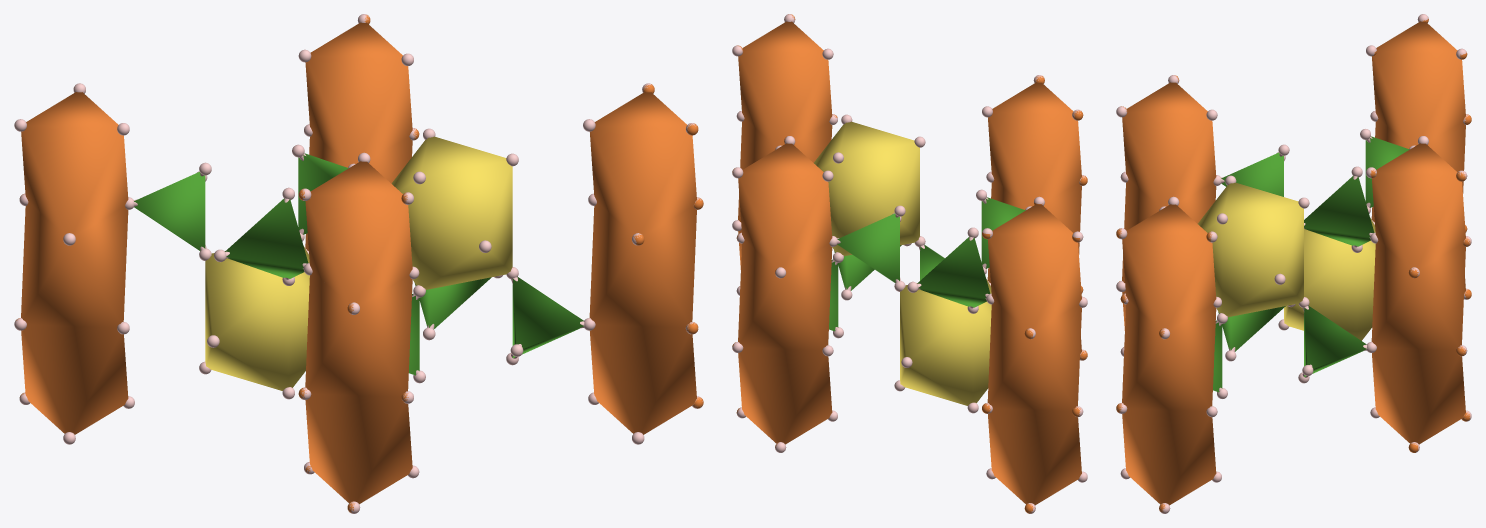
File: ThCr3HgO12-hexagonal-gnome723a502352-p1.glb
The picture shows the model from 3 angles, left to right: view 1: azimuth 30°, elevation 25°; view 2: azimuth 150°, elevation 25°; view 3: azimuth 270°, elevation 25°; orthographic projection. The views are drawn at different scales.
Visible parts, largest first — view 1: CaTh(SeO4)3-P6_3-m-gnome723a502352-p1; view 2: CaTh(SeO4)3-P6_3-m-gnome723a502352-p1; view 3: CaTh(SeO4)3-P6_3-m-gnome723a502352-p1.
Part boxes in pixels (x1=…): CaTh(SeO4)3-P6_3-m-gnome723a502352-p1: x1=14, y1=14, x2=703, y2=513; CaTh(SeO4)3-P6_3-m-gnome723a502352-p1: x1=732, y1=14, x2=1087, y2=513; CaTh(SeO4)3-P6_3-m-gnome723a502352-p1: x1=1116, y1=14, x2=1471, y2=513.
Bounding box in the file's own units: 18.11 × 9.93 × 11.75.
